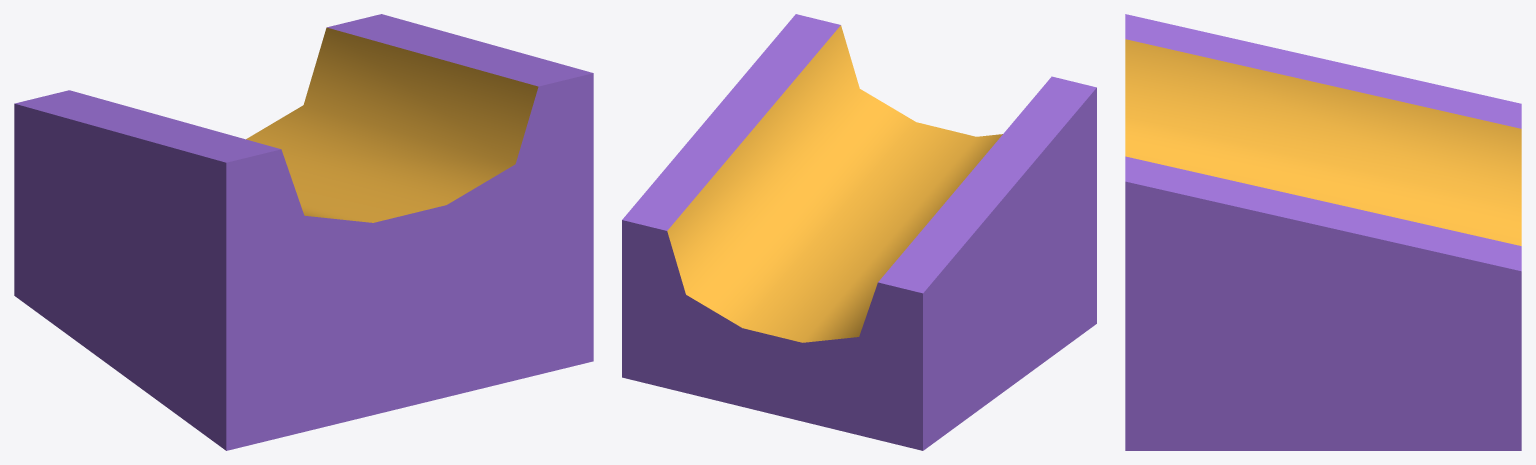
File: kenney-marble-slant-solid-a.glb
3 renders of one model, left to right at view 1: azimuth 30°, elevation 25°; view 2: azimuth 150°, elevation 25°; view 3: azimuth 270°, elevation 25°, orthographic. The views are drawn at different scales.
Visible parts, largest first — view 1: slant-solid-a; view 2: slant-solid-a; view 3: slant-solid-a.
Boxes of the visible parts, left/top/right/bottom form: slant-solid-a: left=14, top=14, right=593, bottom=450; slant-solid-a: left=622, top=14, right=1096, bottom=450; slant-solid-a: left=1125, top=14, right=1521, bottom=450.
Bounding box in the file's own units: 1 × 0.75 × 1.
Materials: 1 (1 with a texture image).
